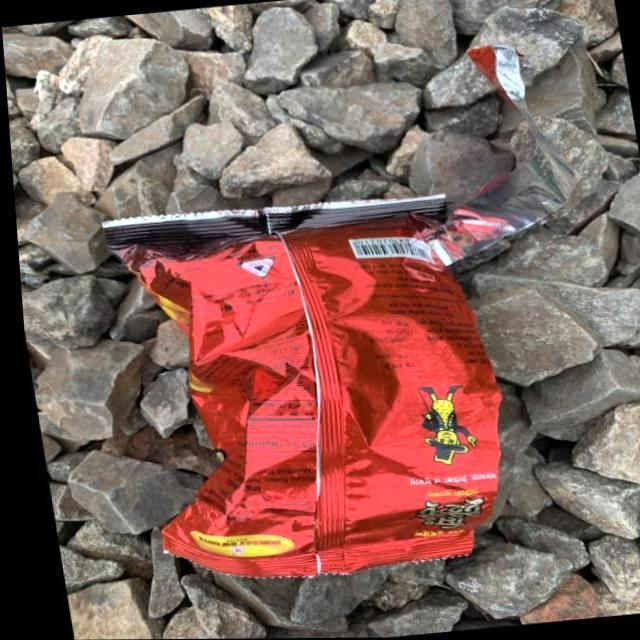packet: (89, 173, 592, 596), (455, 36, 539, 112)
